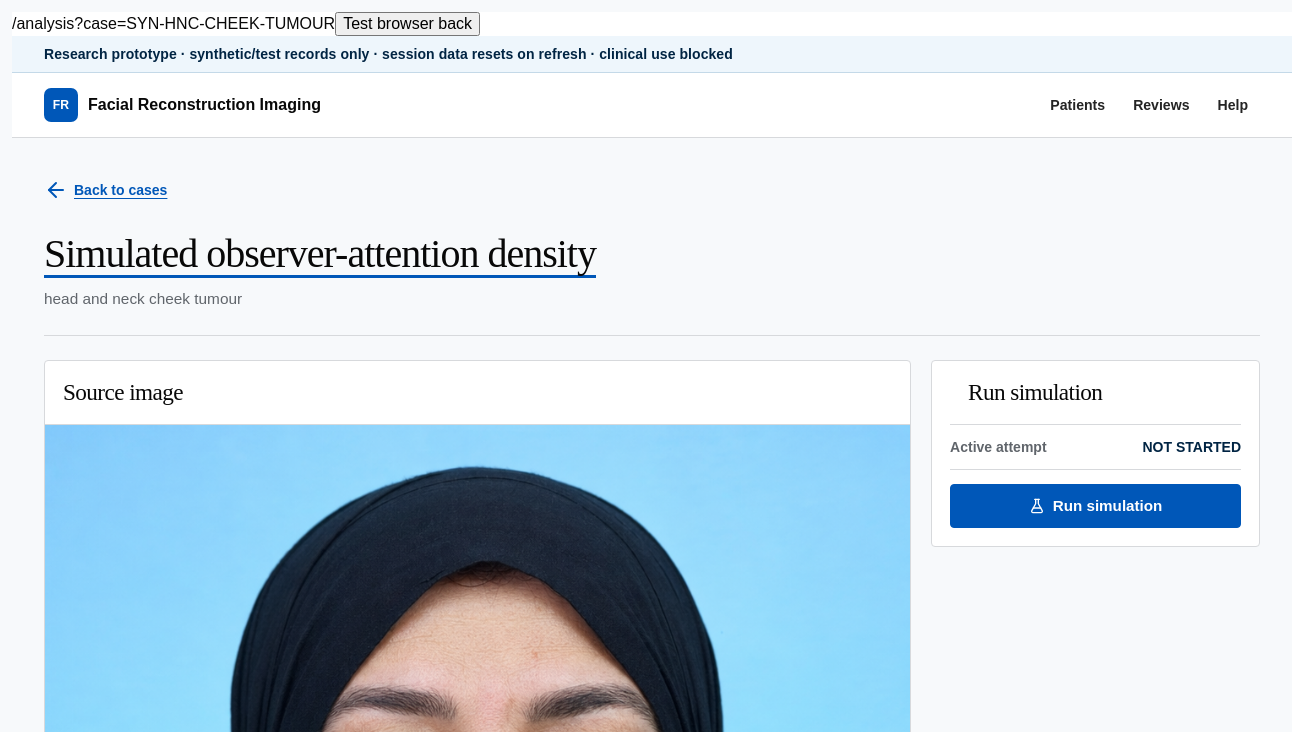
Test: single-case simulated inference › locks the draft while active and exposes only the lifecycle primary action
This screenshot has width=1292, height=732.
What coordinates should you click on to do the following:
click the button "Run simulation"
I would click on:
 (1096, 506)
Its box is [950,484,1241,528].
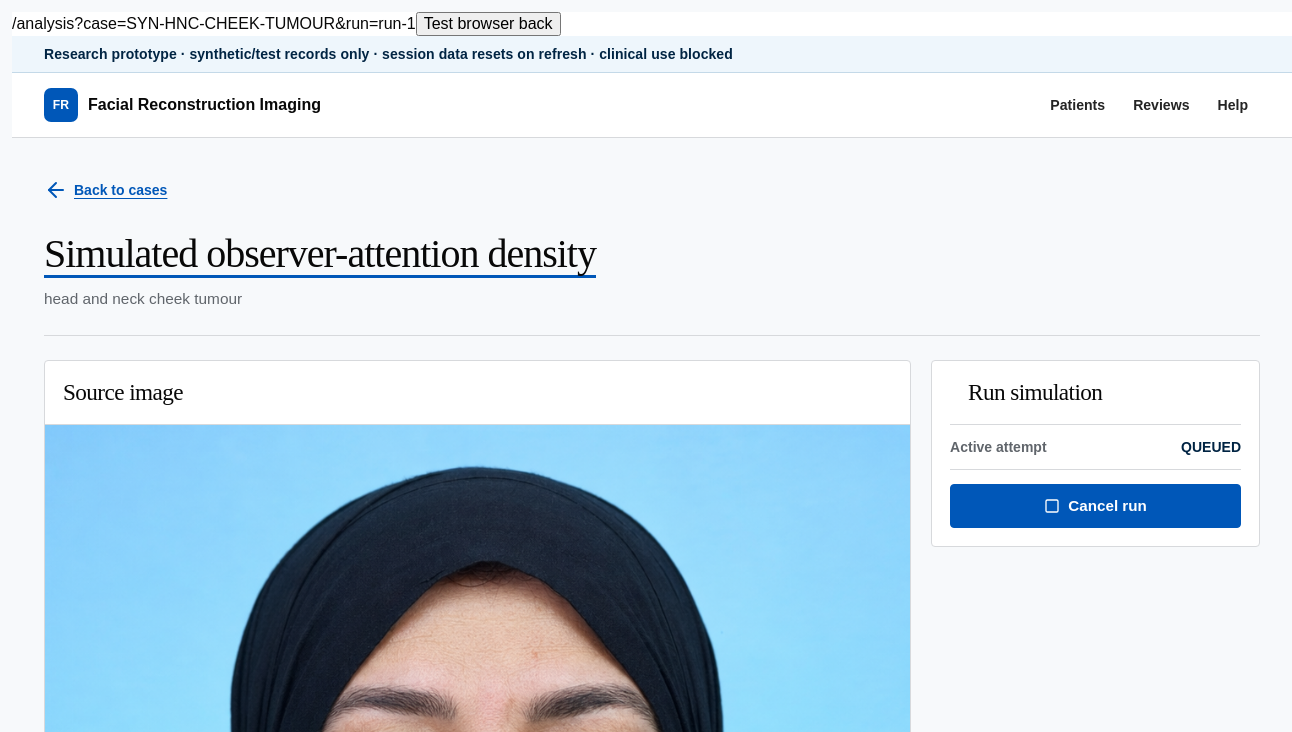
Expected: the button "Retry exact input" is not shown
Now the text named "Active attempt status" reads "queued", box [1181,439,1241,455]
Now the button "Cancel run" is shown
What coordinates should you click on to do the following:
click the button "Cancel run"
I would click on:
 (1096, 506)
Its box is [950,484,1241,528].
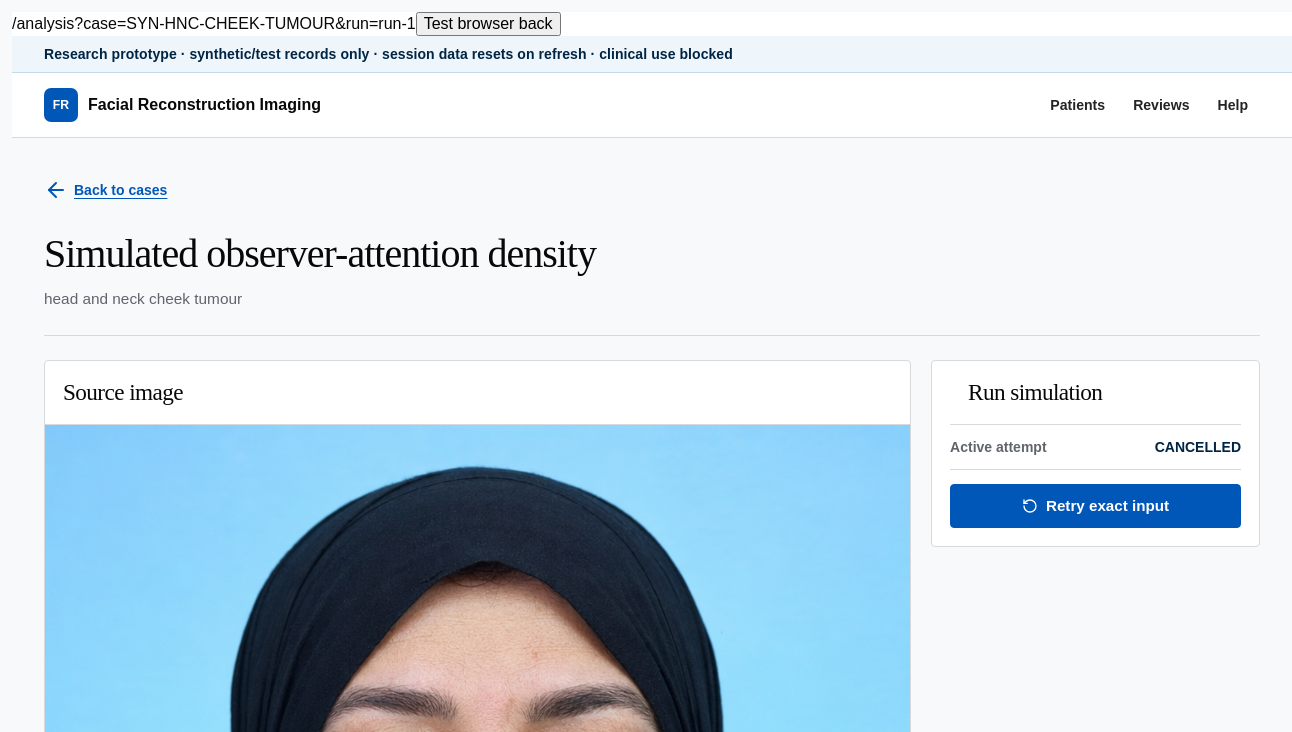
Now the text named "Active attempt status" reads "cancelled", box [1155,439,1241,455]
Now the button "Retry exact input" is shown, box [950,484,1241,528]
Now the button "Cancel run" is gone
